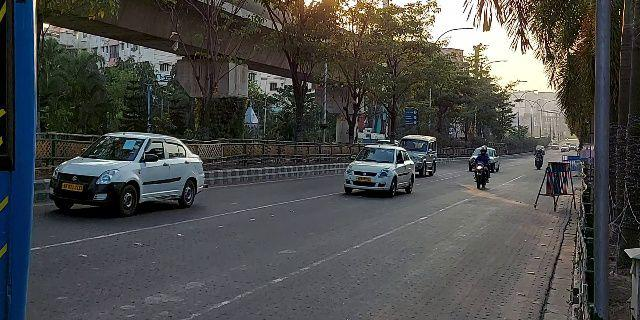Car: (48, 129, 208, 215), (342, 143, 416, 201), (400, 135, 440, 177)
Motorbike: (472, 144, 492, 193), (531, 144, 545, 172)
